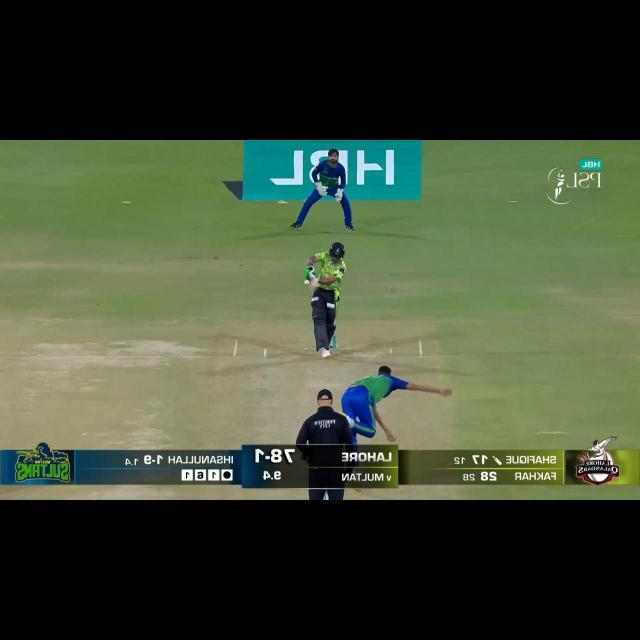bat: (309, 277, 318, 288)
